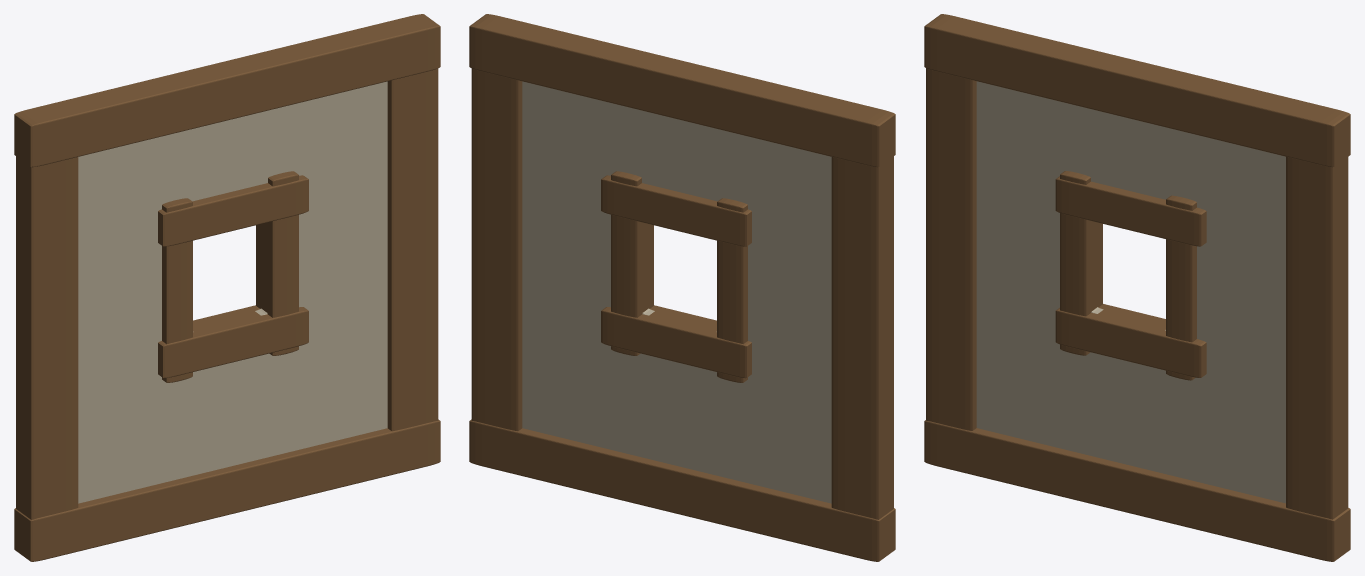
The picture shows the model from 3 angles, left to right: view 1: azimuth 30°, elevation 25°; view 2: azimuth 150°, elevation 25°; view 3: azimuth 330°, elevation 25°; orthographic projection.
Parts seen in each view (by area): view 1: Cube.034; view 2: Cube.034; view 3: Cube.034.
Part boxes in pixels (left/top/right/bottom): Cube.034: left=14, top=14, right=440, bottom=561; Cube.034: left=469, top=14, right=895, bottom=561; Cube.034: left=924, top=14, right=1350, bottom=561.
Bounding box in the file's own units: 207 × 212 × 16.32.
